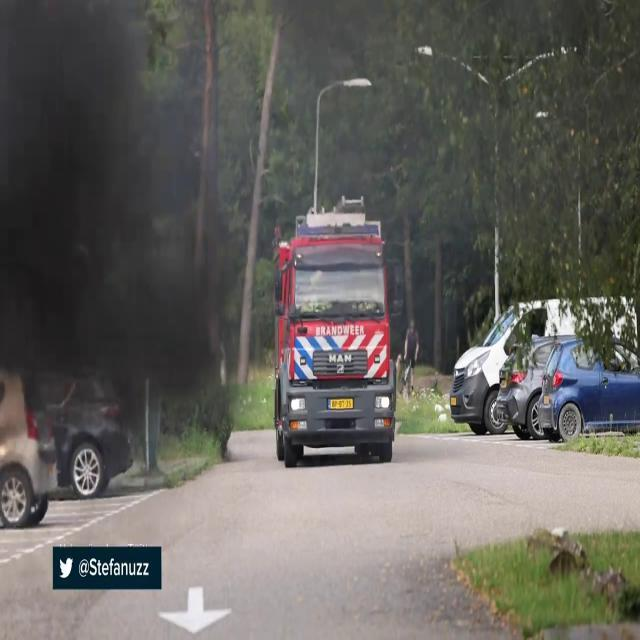Smoke: (0, 1, 258, 424)
